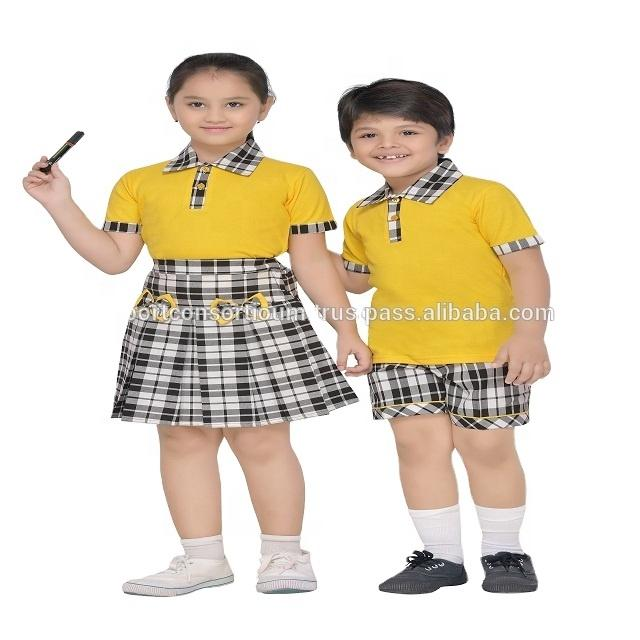child: (9, 48, 376, 610), (324, 69, 571, 605)
